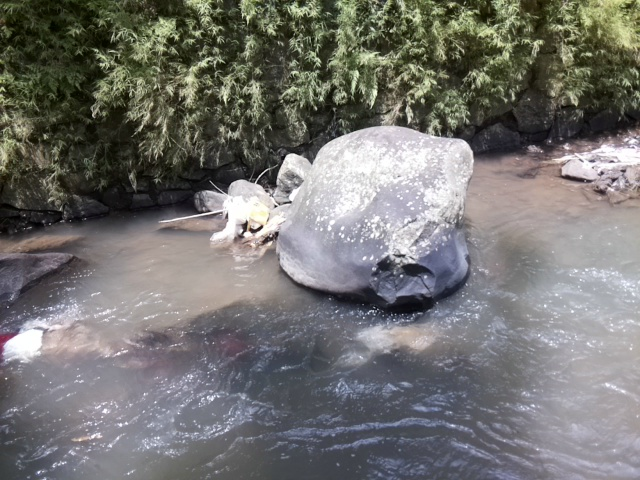Sampah_Plastik: (213, 187, 281, 243), (1, 327, 44, 371)
